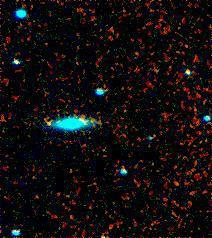star: (34, 110, 64, 140)
